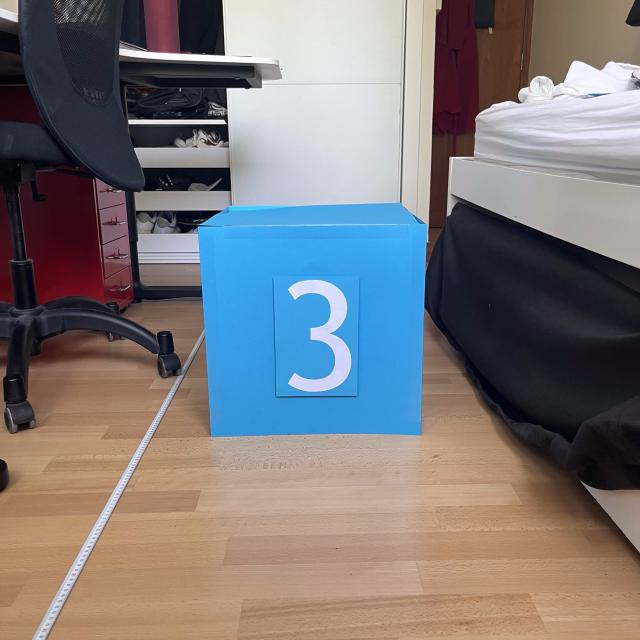box: (193, 199, 430, 439)
